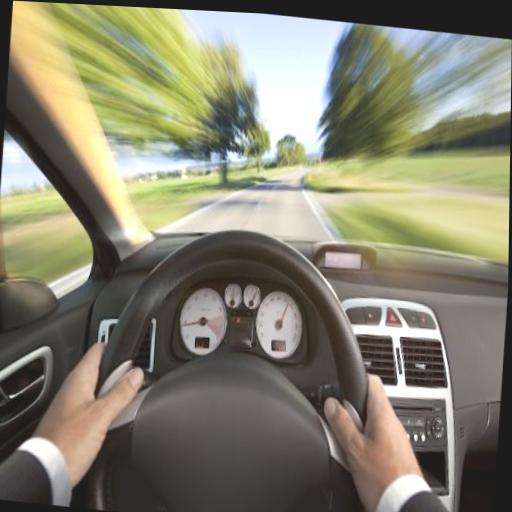Hands-on-the-Wheel: (3, 315, 165, 512), (305, 343, 444, 512)
